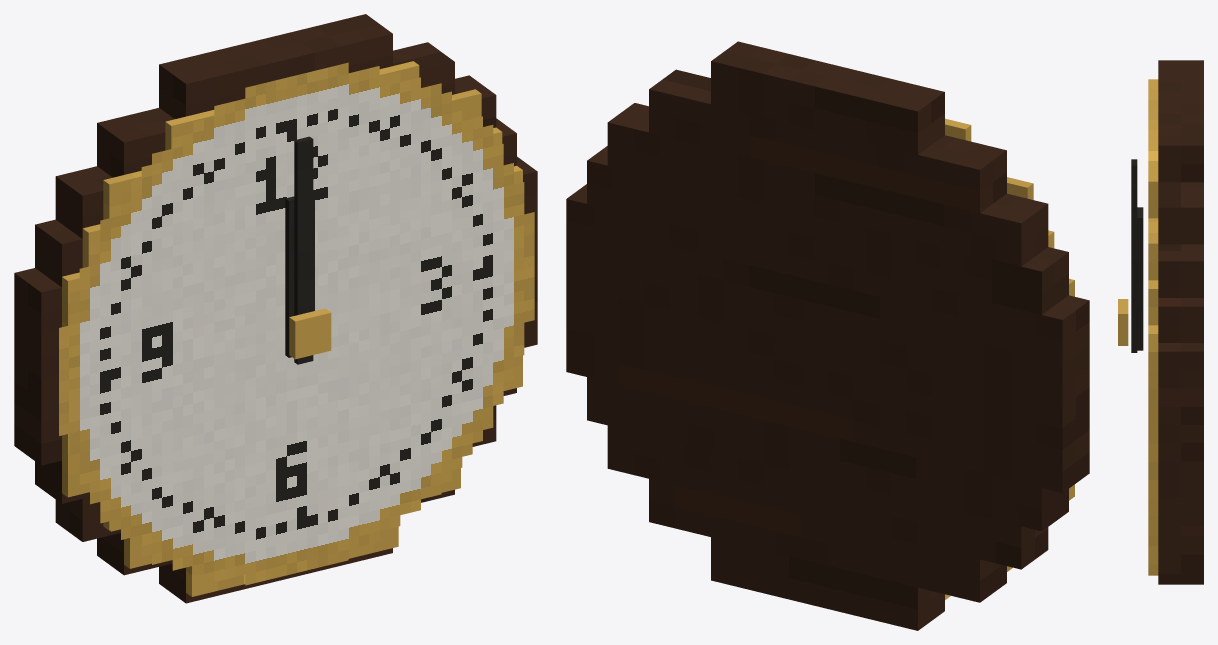
File: wall_clock.glb
3 views of the same model, side by side, from view 1: azimuth 30°, elevation 25°; view 2: azimuth 150°, elevation 25°; view 3: azimuth 270°, elevation 25° (orthographic). The views are drawn at different scales.
Parts seen in each view (by area): view 1: wall_clock, minute_hand, hour_hand; view 2: wall_clock; view 3: wall_clock, minute_hand, hour_hand.
Part boxes in pixels (x1=…): wall_clock: x1=14, y1=14, x2=537, y2=603; minute_hand: x1=294, y1=136, x2=313, y2=364; hour_hand: x1=285, y1=194, x2=314, y2=357; wall_clock: x1=566, y1=41, x2=1089, y2=630; wall_clock: x1=1118, y1=60, x2=1203, y2=584; minute_hand: x1=1131, y1=159, x2=1137, y2=352; hour_hand: x1=1137, y1=207, x2=1143, y2=350.
Bounding box in the file's own units: 0.6 × 0.6 × 0.1063.
Materials: 1 (1 with a texture image).
